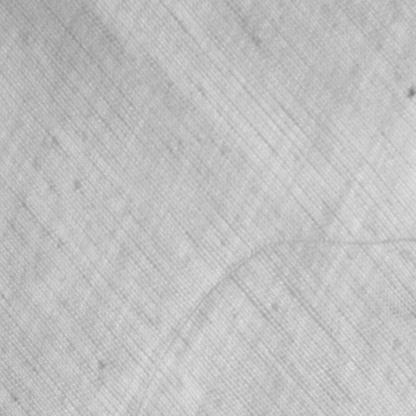objects: (132, 234, 415, 415)
